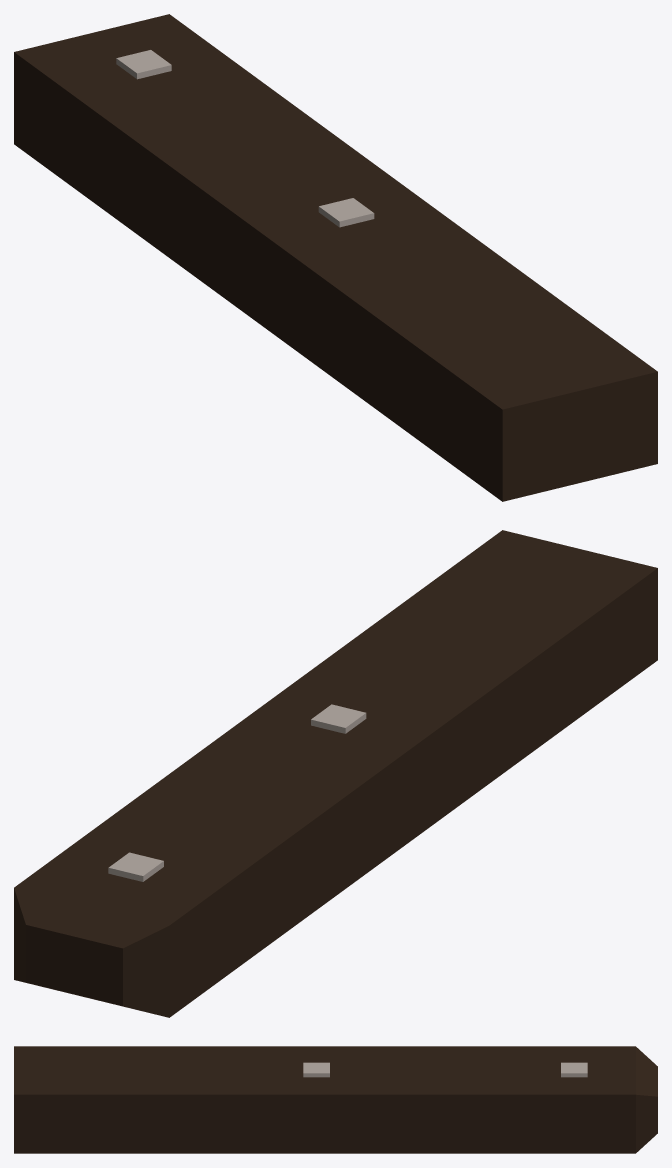
The model's file is Fence Pole 01.FBX.
3 renders of one model, top to bottom at view 1: azimuth 30°, elevation 25°; view 2: azimuth 150°, elevation 25°; view 3: azimuth 270°, elevation 25°, orthographic. The views are drawn at different scales.
Parts seen in each view (by area): view 1: Fence Pole 01; view 2: Fence Pole 01; view 3: Fence Pole 01.
Boxes of the visible parts, x1,y1,x2,y2 form: Fence Pole 01: (14, 14, 657, 501); Fence Pole 01: (14, 530, 657, 1017); Fence Pole 01: (14, 1046, 657, 1153).
Size of the model in its own units: 14.86 by 83.75 by 9.68.
